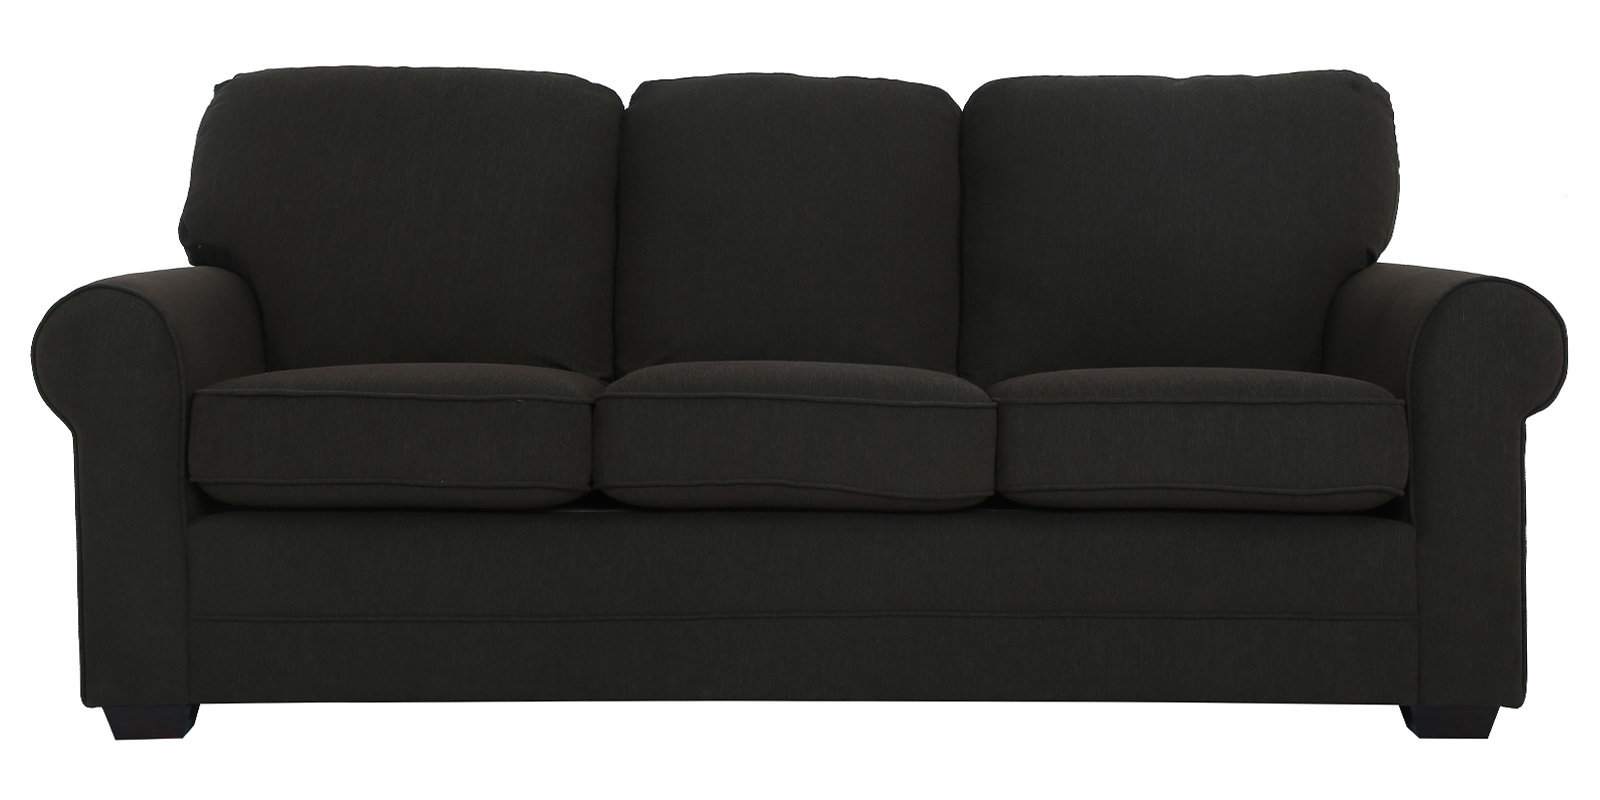Madeira Three Seater Sofa in Chestnut Brown Colour by CasaCraft: (28, 62, 1570, 739)
